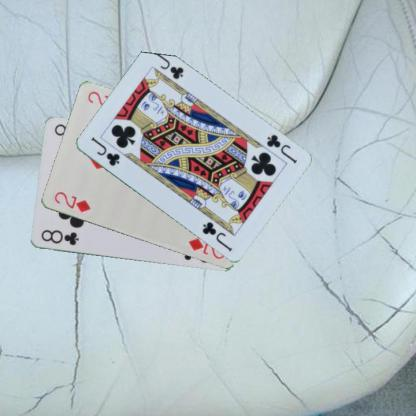2d: (51, 189, 92, 214)
8c: (38, 227, 80, 247)
Jc: (264, 132, 298, 165), (88, 134, 121, 167)
